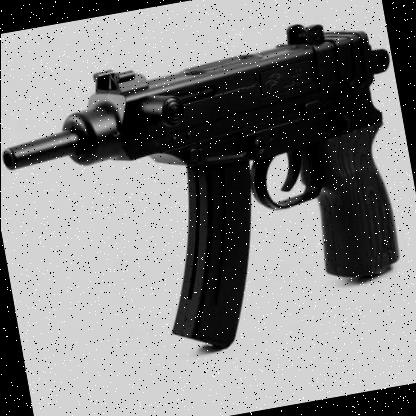rifle: (0, 6, 416, 371)
